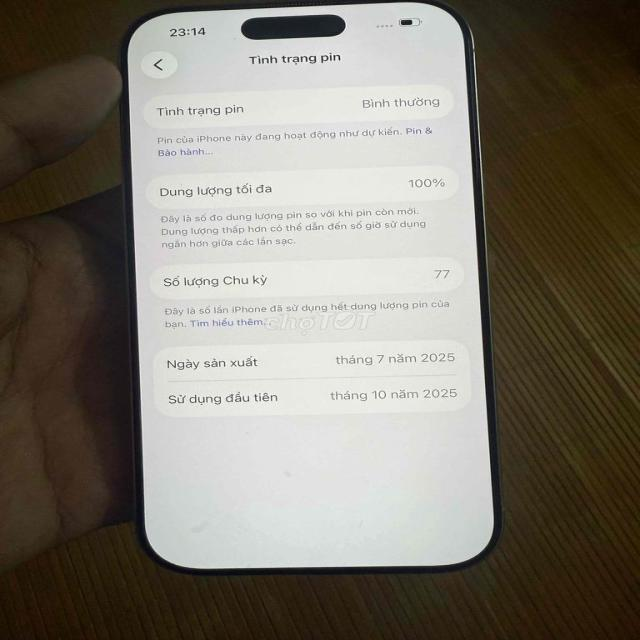gen_16: (122, 0, 498, 571)
